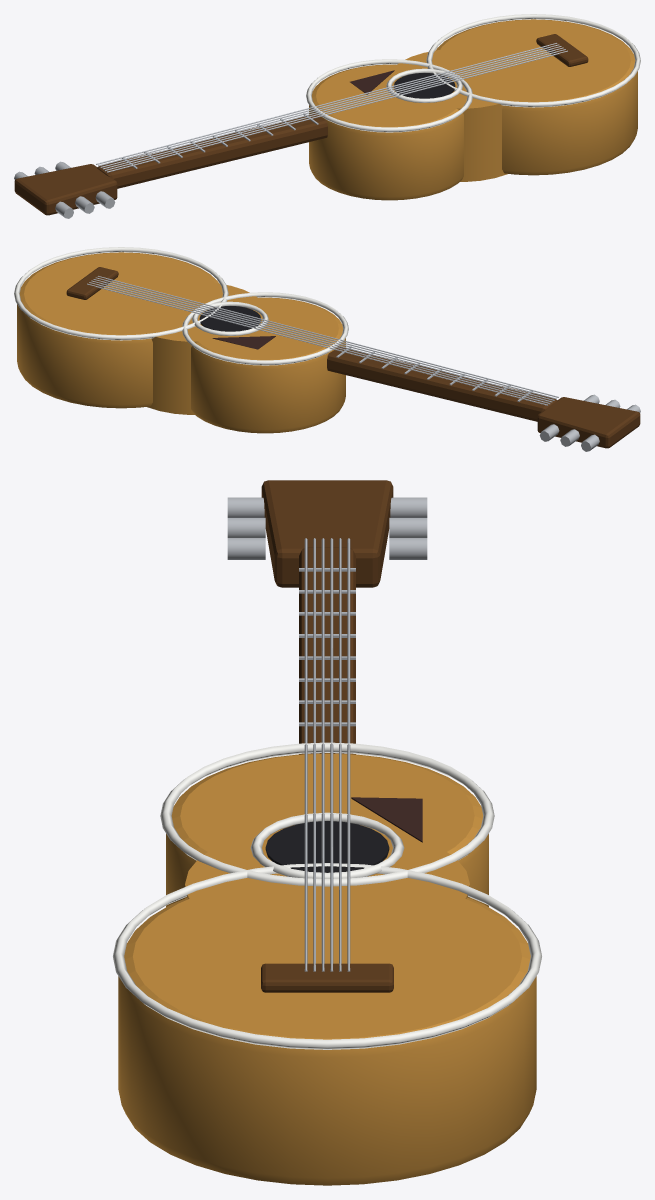
Rendered from guitar.fbx.
The picture shows the model from 3 angles, top to bottom: view 1: azimuth 30°, elevation 25°; view 2: azimuth 150°, elevation 25°; view 3: azimuth 270°, elevation 25°; orthographic projection. The views are drawn at different scales.
Visible parts, largest first — view 1: Acoustic Guitar; view 2: Acoustic Guitar; view 3: Acoustic Guitar.
Part boxes in pixels (box(x1,y1,x2,y2)): Acoustic Guitar: box(14, 14, 640, 218); Acoustic Guitar: box(14, 247, 640, 451); Acoustic Guitar: box(113, 480, 541, 1185).
Bounding box in the file's own units: 2.9 × 0.373 × 0.904.
